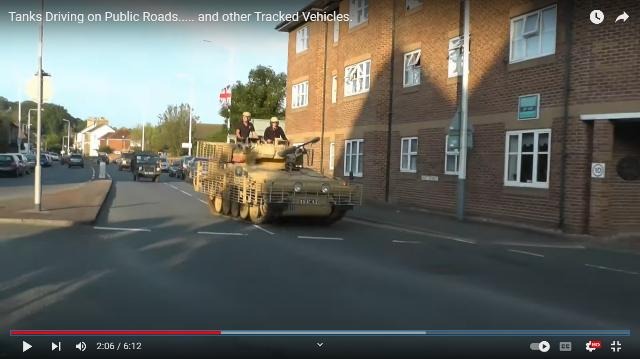other: (260, 114, 284, 141), (234, 110, 253, 141)
tank: (202, 144, 346, 219)
